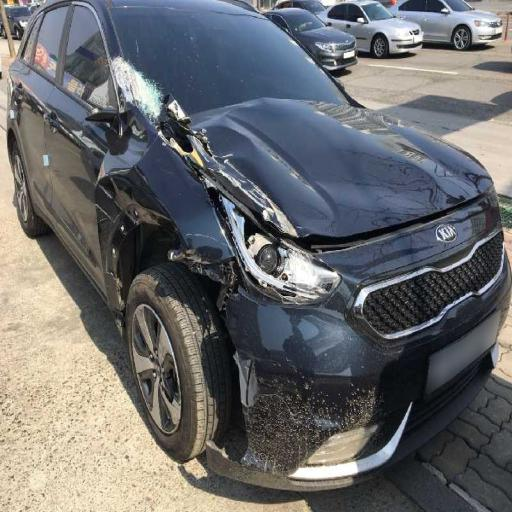broken: (173, 154, 382, 407)
dent: (64, 144, 156, 263)
scratch: (98, 43, 184, 161)
